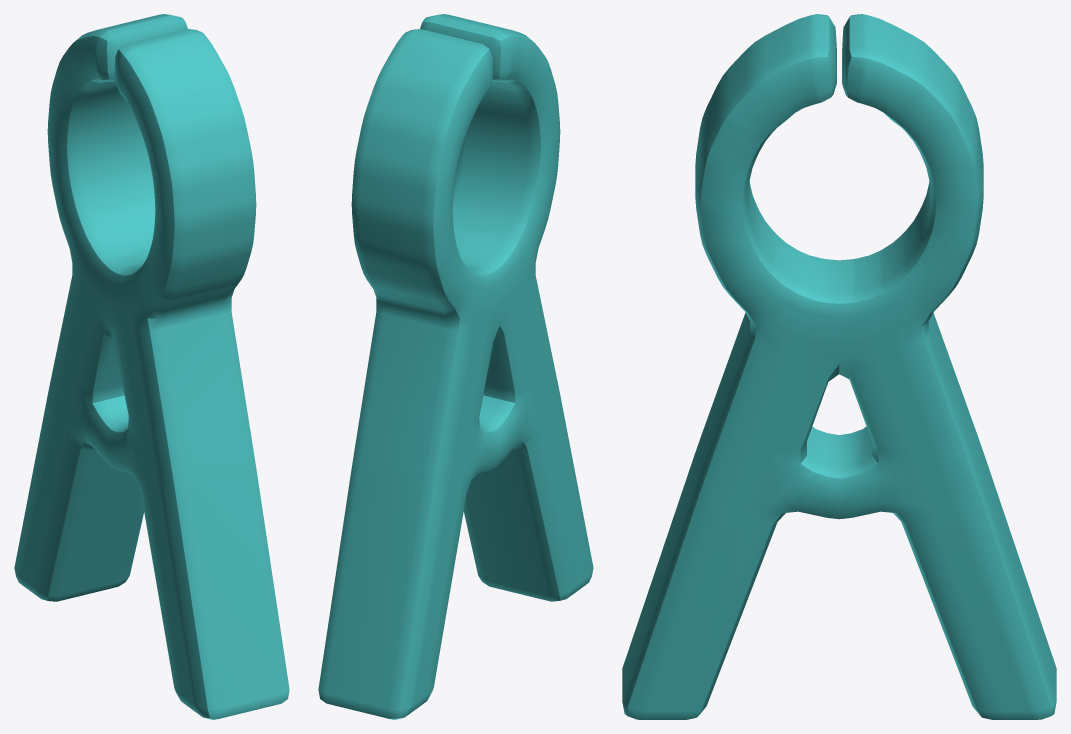
The model's file is Eden_clothespin_2.fbx.
3 renders of one model, left to right at view 1: azimuth 30°, elevation 25°; view 2: azimuth 150°, elevation 25°; view 3: azimuth 270°, elevation 25°, orthographic. The views are drawn at different scales.
Parts seen in each view (by area): view 1: pCylinder5; view 2: pCylinder5; view 3: pCylinder5.
Part boxes in pixels (x1,y1,x2,y2): pCylinder5: (14, 14, 289, 719); pCylinder5: (318, 14, 593, 719); pCylinder5: (622, 14, 1056, 719).
Bounding box in the file's own units: 0.000336 × 0.0022 × 0.00129.
